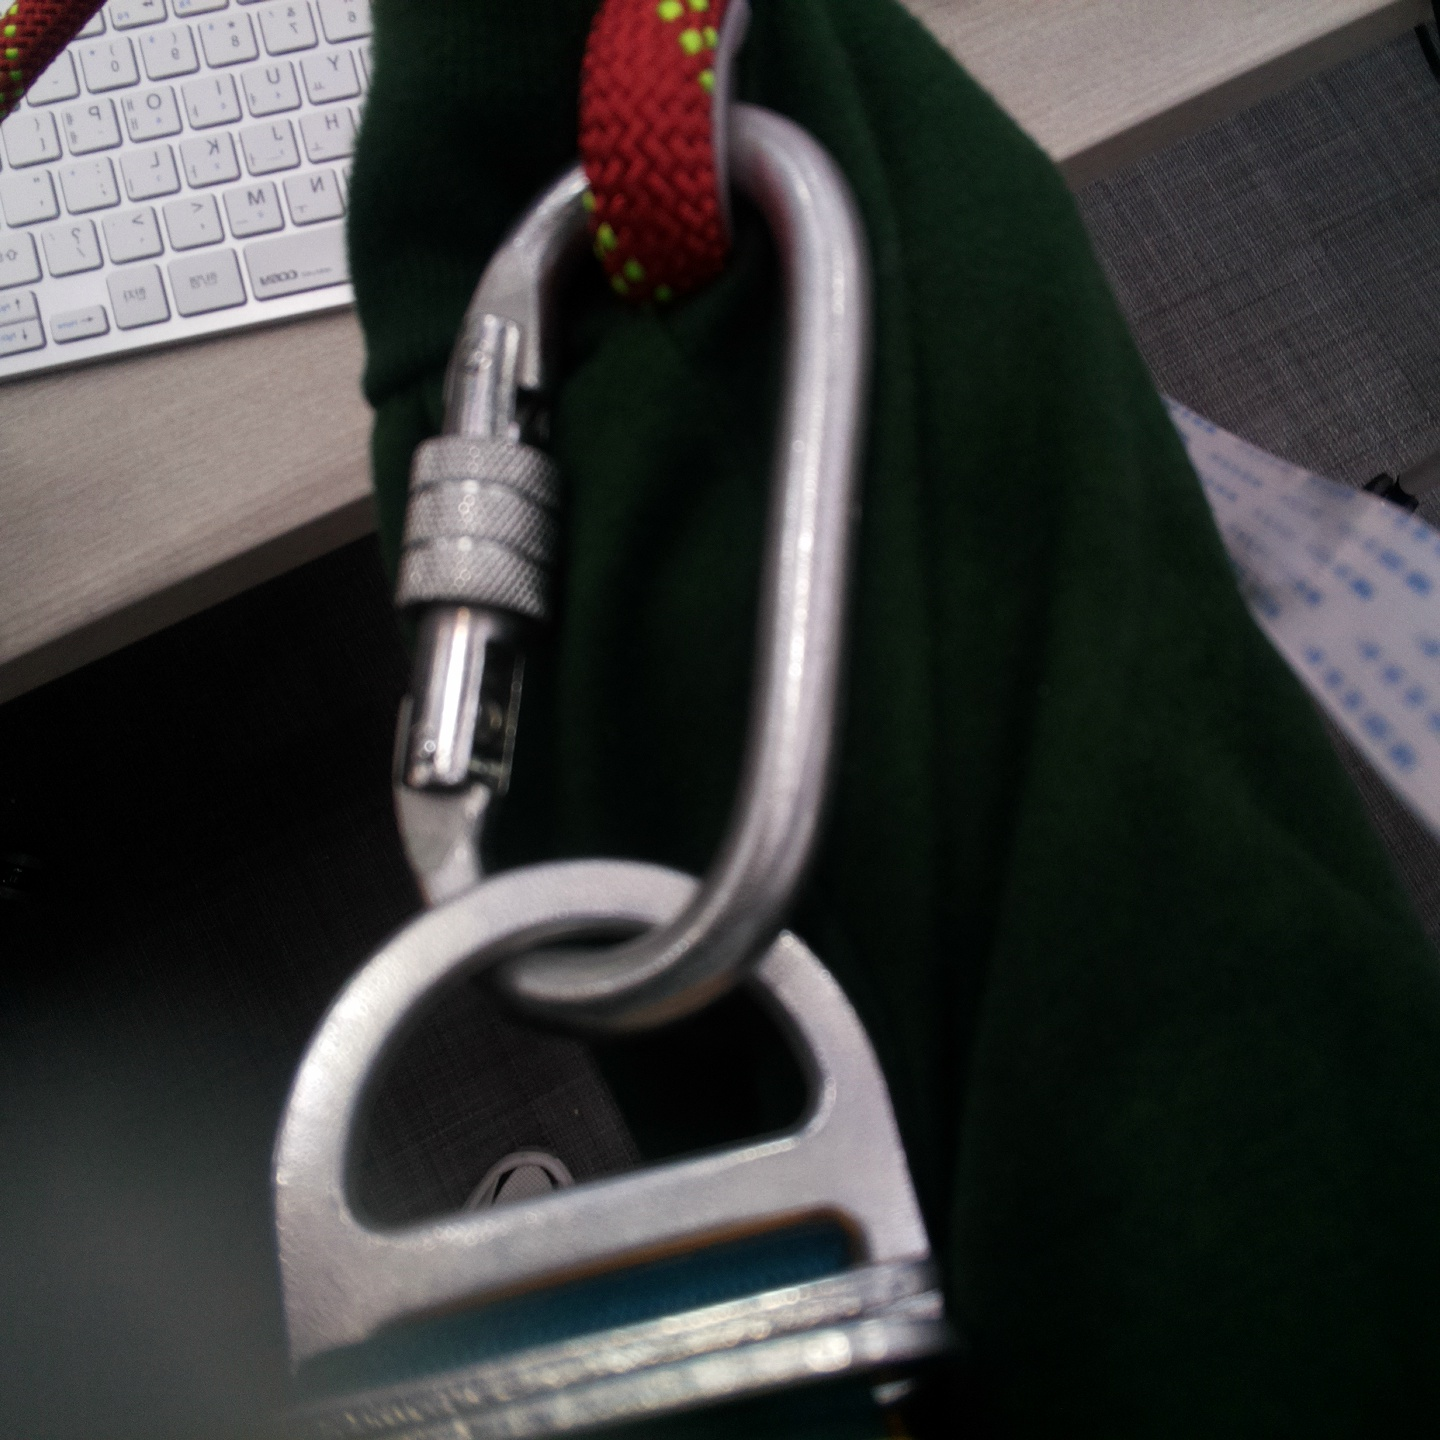SUCCESS: (393, 286, 864, 872)
